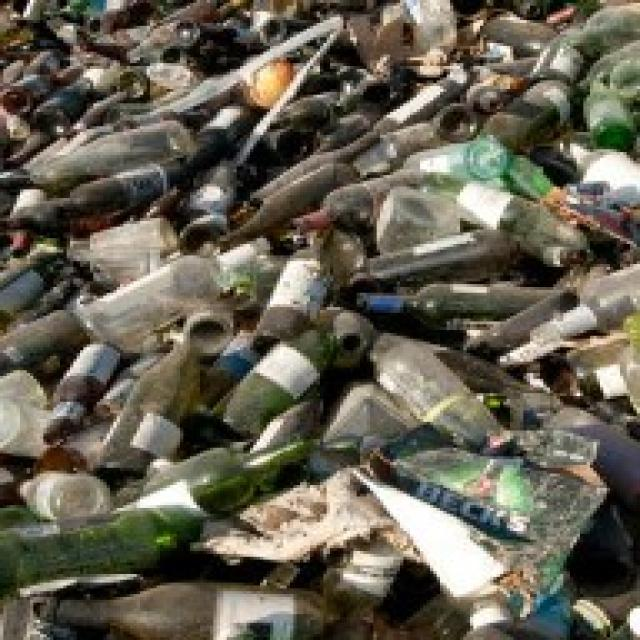electronic: (0, 508, 233, 598), (111, 440, 319, 525), (216, 314, 348, 438), (576, 76, 636, 152)
